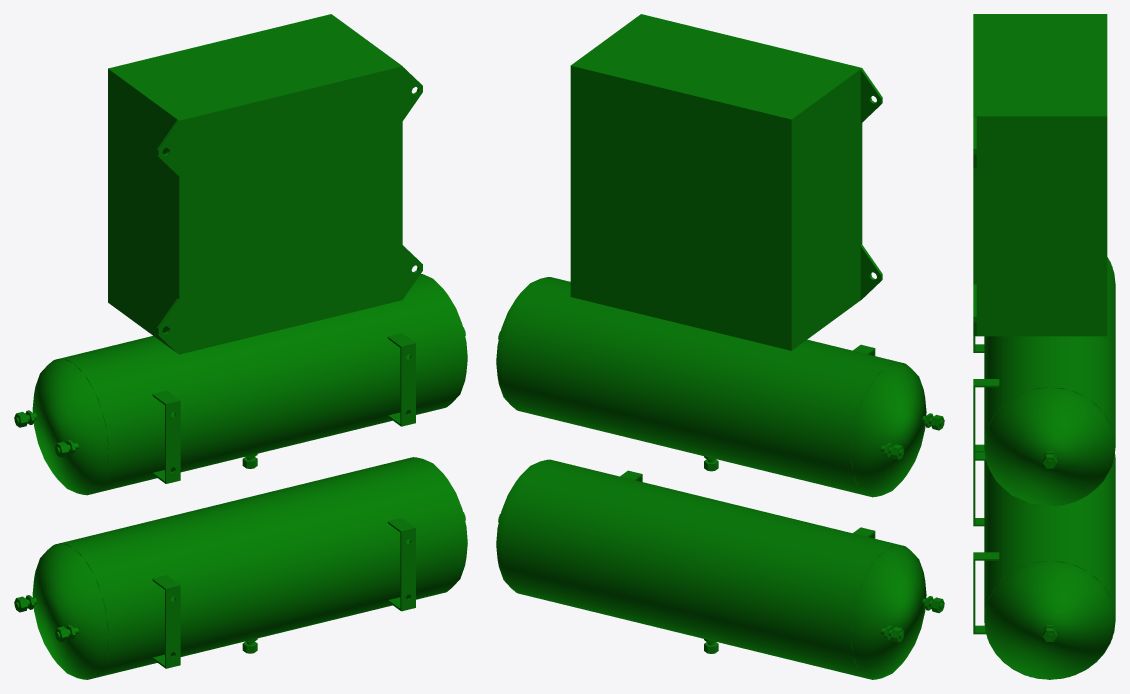
File: Image-1711348167578-2281197186896_HE100-SLIDING_DOOR.fbx
The picture shows the model from 3 angles, left to right: view 1: azimuth 30°, elevation 25°; view 2: azimuth 150°, elevation 25°; view 3: azimuth 270°, elevation 25°; orthographic projection. The views are drawn at different scales.
Parts seen in each view (by area): view 1: BOX 1 of SUBEQUIPMENT /HE100-SLIDING_DOOR/CTRL-BOX, CYLINDER 1 of SUBEQUIPMENT /HE100-SLIDING_DOOR/AIR-2, CYLINDER 1 of SUBEQUIPMENT /HE100-SLIDING_DOOR/AIR-1, DISH 1 of SUBEQUIPMENT /HE100-SLIDING_DOOR/AIR-1, DISH 1 of SUBEQUIPMENT /HE100-SLIDING_DOOR/AIR-2, BOX 2 of SUBEQUIPMENT /HE100-SLIDING_DOOR/AIR-2, BOX 2 of SUBEQUIPMENT /HE100-SLIDING_DOOR/AIR-1, BOX 1 of SUBEQUIPMENT /HE100-SLIDING_DOOR/AIR-1, BOX 1 of SUBEQUIPMENT /HE100-SLIDING_DOOR/AIR-2, DISH 2 of SUBEQUIPMENT /HE100-SLIDING_DOOR/AIR-2, DISH 2 of SUBEQUIPMENT /HE100-SLIDING_DOOR/AIR-1, PYRAMID 3 of SUBEQUIPMENT /HE100-SLIDING_DOOR/CTRL-BOX (+1 smaller); view 2: BOX 1 of SUBEQUIPMENT /HE100-SLIDING_DOOR/CTRL-BOX, CYLINDER 1 of SUBEQUIPMENT /HE100-SLIDING_DOOR/AIR-2, CYLINDER 1 of SUBEQUIPMENT /HE100-SLIDING_DOOR/AIR-1, DISH 1 of SUBEQUIPMENT /HE100-SLIDING_DOOR/AIR-2, DISH 1 of SUBEQUIPMENT /HE100-SLIDING_DOOR/AIR-1, DISH 2 of SUBEQUIPMENT /HE100-SLIDING_DOOR/AIR-2, DISH 2 of SUBEQUIPMENT /HE100-SLIDING_DOOR/AIR-1, PYRAMID 1 of SUBEQUIPMENT /HE100-SLIDING_DOOR/CTRL-BOX, PYRAMID 3 of SUBEQUIPMENT /HE100-SLIDING_DOOR/CTRL-BOX; view 3: BOX 1 of SUBEQUIPMENT /HE100-SLIDING_DOOR/CTRL-BOX, DISH 2 of SUBEQUIPMENT /HE100-SLIDING_DOOR/AIR-1, DISH 2 of SUBEQUIPMENT /HE100-SLIDING_DOOR/AIR-2, CYLINDER 1 of SUBEQUIPMENT /HE100-SLIDING_DOOR/AIR-2, CYLINDER 1 of SUBEQUIPMENT /HE100-SLIDING_DOOR/AIR-1, BOX 2 of SUBEQUIPMENT /HE100-SLIDING_DOOR/AIR-1, BOX 2 of SUBEQUIPMENT /HE100-SLIDING_DOOR/AIR-2.
Part boxes in pixels (bbox=[...]): BOX 1 of SUBEQUIPMENT /HE100-SLIDING_DOOR/CTRL-BOX: bbox=[108, 14, 402, 354]; CYLINDER 1 of SUBEQUIPMENT /HE100-SLIDING_DOOR/AIR-2: bbox=[54, 457, 461, 679]; CYLINDER 1 of SUBEQUIPMENT /HE100-SLIDING_DOOR/AIR-1: bbox=[54, 274, 461, 495]; DISH 1 of SUBEQUIPMENT /HE100-SLIDING_DOOR/AIR-1: bbox=[32, 358, 108, 494]; DISH 1 of SUBEQUIPMENT /HE100-SLIDING_DOOR/AIR-2: bbox=[32, 543, 108, 679]; BOX 2 of SUBEQUIPMENT /HE100-SLIDING_DOOR/AIR-2: bbox=[400, 527, 415, 611]; BOX 2 of SUBEQUIPMENT /HE100-SLIDING_DOOR/AIR-1: bbox=[400, 342, 415, 426]; BOX 1 of SUBEQUIPMENT /HE100-SLIDING_DOOR/AIR-1: bbox=[165, 400, 180, 483]; BOX 1 of SUBEQUIPMENT /HE100-SLIDING_DOOR/AIR-2: bbox=[165, 584, 180, 668]; DISH 2 of SUBEQUIPMENT /HE100-SLIDING_DOOR/AIR-2: bbox=[416, 457, 467, 591]; DISH 2 of SUBEQUIPMENT /HE100-SLIDING_DOOR/AIR-1: bbox=[421, 274, 467, 406]; PYRAMID 3 of SUBEQUIPMENT /HE100-SLIDING_DOOR/CTRL-BOX: bbox=[157, 298, 179, 354]; BOX 1 of SUBEQUIPMENT /HE100-SLIDING_DOOR/CTRL-BOX: bbox=[570, 14, 862, 350]; CYLINDER 1 of SUBEQUIPMENT /HE100-SLIDING_DOOR/AIR-2: bbox=[502, 459, 905, 679]; CYLINDER 1 of SUBEQUIPMENT /HE100-SLIDING_DOOR/AIR-1: bbox=[502, 277, 905, 497]; DISH 1 of SUBEQUIPMENT /HE100-SLIDING_DOOR/AIR-2: bbox=[851, 545, 926, 679]; DISH 1 of SUBEQUIPMENT /HE100-SLIDING_DOOR/AIR-1: bbox=[851, 362, 926, 496]; DISH 2 of SUBEQUIPMENT /HE100-SLIDING_DOOR/AIR-2: bbox=[496, 459, 547, 592]; DISH 2 of SUBEQUIPMENT /HE100-SLIDING_DOOR/AIR-1: bbox=[496, 277, 547, 409]; PYRAMID 1 of SUBEQUIPMENT /HE100-SLIDING_DOOR/CTRL-BOX: bbox=[860, 68, 882, 123]; PYRAMID 3 of SUBEQUIPMENT /HE100-SLIDING_DOOR/CTRL-BOX: bbox=[860, 245, 882, 299]; BOX 1 of SUBEQUIPMENT /HE100-SLIDING_DOOR/CTRL-BOX: bbox=[973, 14, 1107, 336]; DISH 2 of SUBEQUIPMENT /HE100-SLIDING_DOOR/AIR-1: bbox=[984, 387, 1115, 506]; DISH 2 of SUBEQUIPMENT /HE100-SLIDING_DOOR/AIR-2: bbox=[984, 560, 1115, 679]; CYLINDER 1 of SUBEQUIPMENT /HE100-SLIDING_DOOR/AIR-2: bbox=[984, 454, 1115, 679]; CYLINDER 1 of SUBEQUIPMENT /HE100-SLIDING_DOOR/AIR-1: bbox=[984, 257, 1115, 505]; BOX 2 of SUBEQUIPMENT /HE100-SLIDING_DOOR/AIR-1: bbox=[973, 379, 975, 460]; BOX 2 of SUBEQUIPMENT /HE100-SLIDING_DOOR/AIR-2: bbox=[973, 552, 975, 632].
Size of the model in its own units: 0.7262 by 0.223 by 0.9561.
